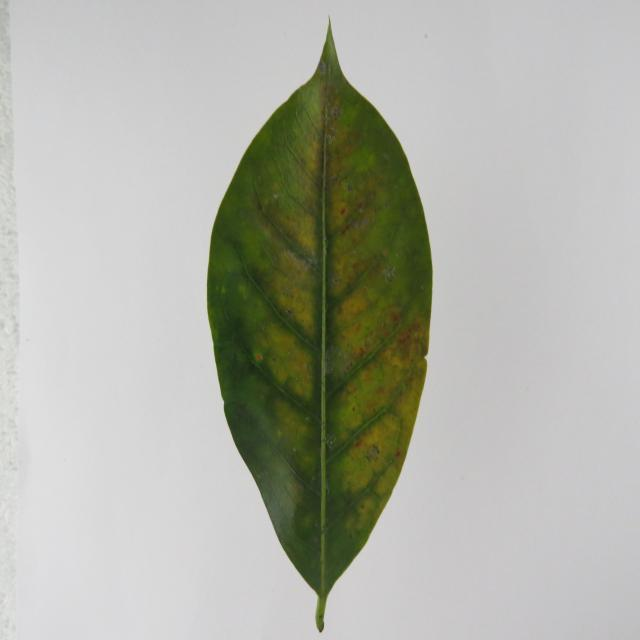DeficienciaNutricional-Magnesio: (208, 25, 432, 632)
